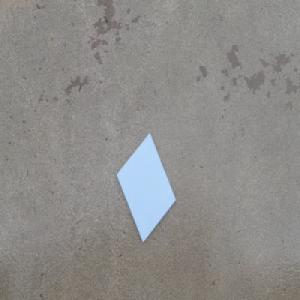PaintChip: (115, 131, 177, 244)
